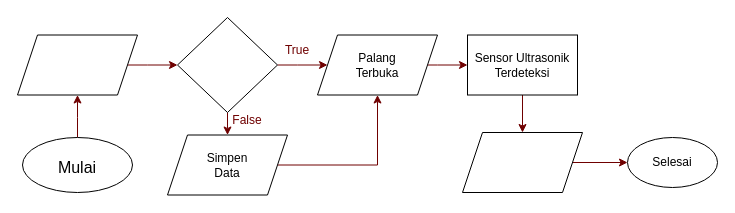
The diagram is 735 pixels wide and 213 high, and some of its shapes have lost their labels. The centre of each missing label's shape, as x and y in pixels:
Deteksi Variabel: point (77, 64)
Palang Tertutup: point (522, 162)
Pencocokan Data: point (227, 64)
